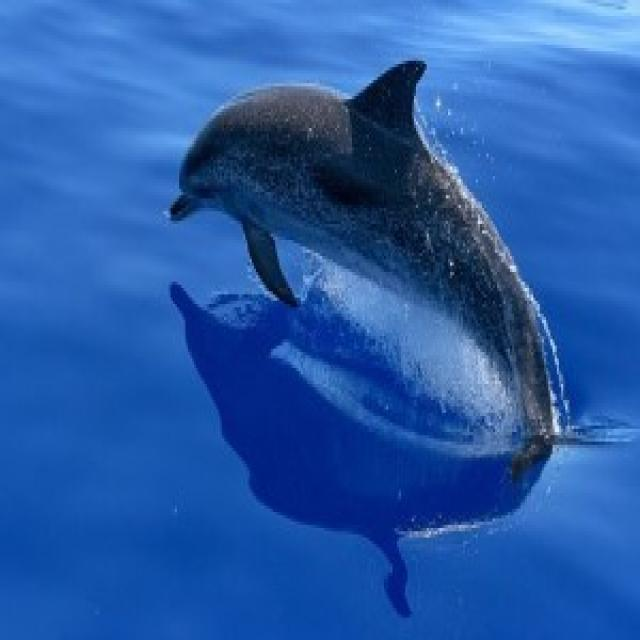Dolphin: (161, 64, 636, 483)
